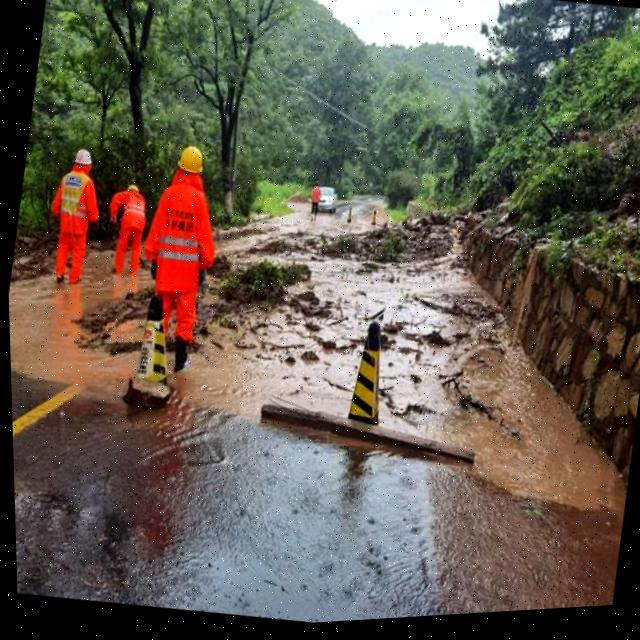civilian: (301, 179, 327, 223)
rescuer: (120, 133, 234, 378), (36, 138, 113, 298), (94, 174, 157, 292)
